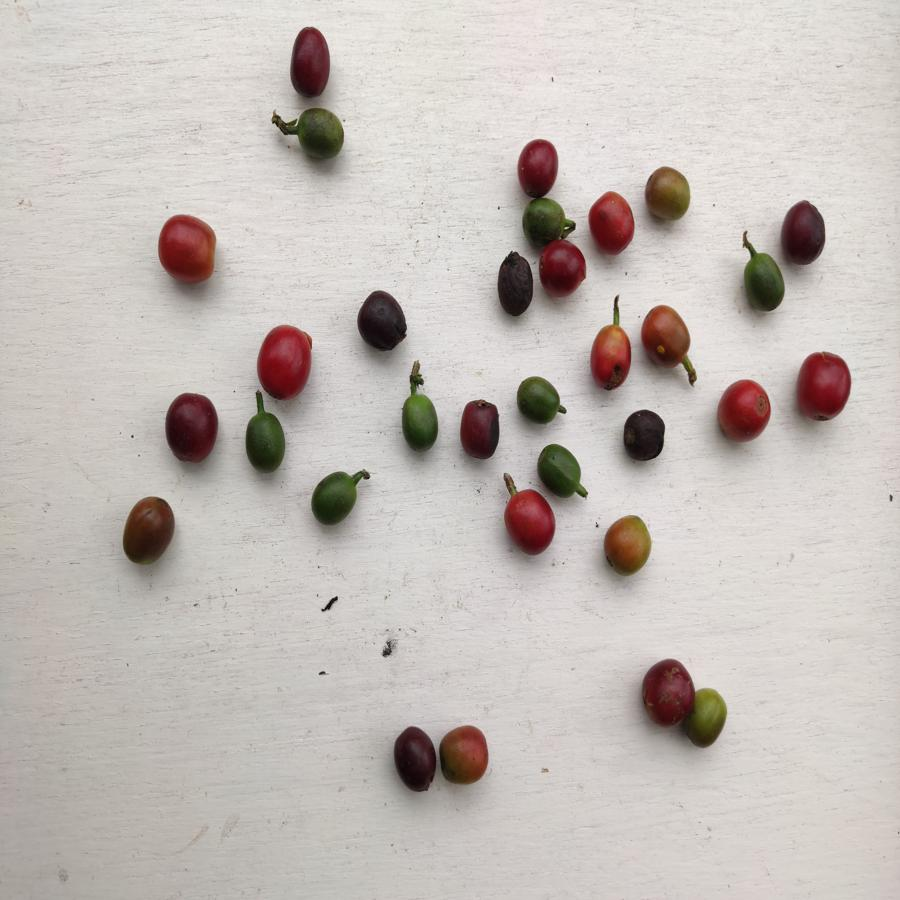Inmaduro: (291, 102, 350, 156), (307, 469, 360, 527), (535, 441, 585, 500), (740, 252, 786, 313), (242, 412, 288, 471), (400, 389, 441, 451), (512, 375, 565, 422), (519, 196, 570, 241)
Maduro: (254, 324, 314, 398), (795, 350, 855, 424), (158, 212, 219, 284), (497, 492, 561, 557), (714, 382, 776, 444), (590, 320, 639, 390), (588, 186, 635, 254)
Pinton: (119, 497, 175, 567), (638, 304, 694, 371), (602, 515, 654, 579), (436, 724, 489, 786), (689, 682, 726, 751), (644, 166, 691, 220)
Sobremaduro: (161, 392, 224, 465), (638, 656, 695, 730), (285, 26, 334, 101), (392, 722, 441, 793), (358, 287, 413, 349), (514, 136, 565, 199), (782, 200, 828, 267), (618, 406, 668, 465), (495, 250, 537, 319), (457, 398, 504, 459), (536, 240, 585, 295)
